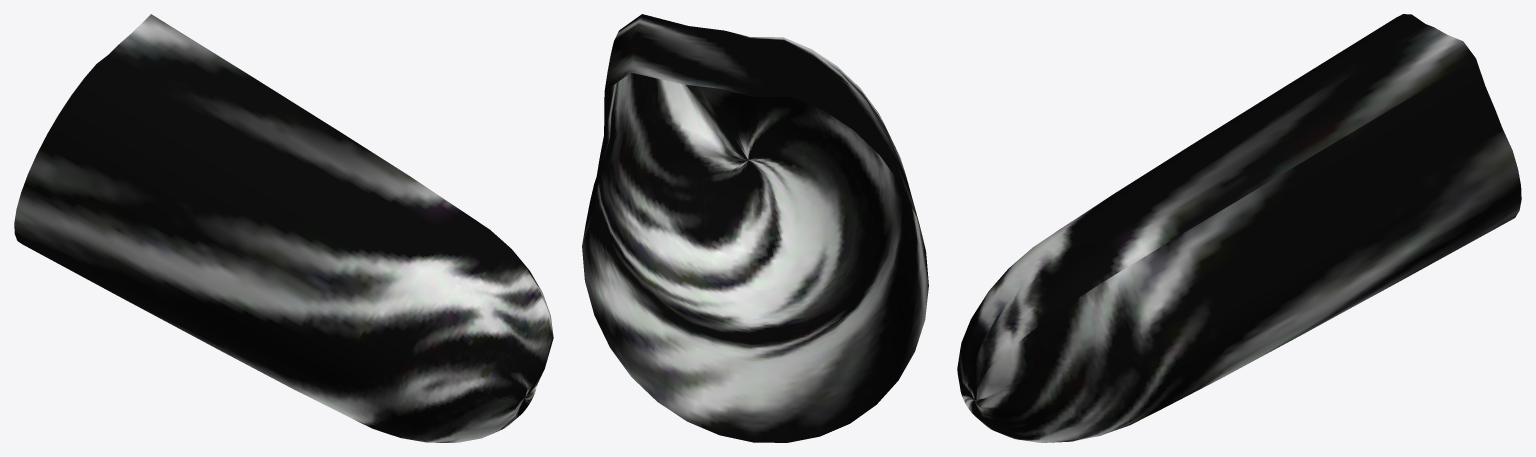
Rendered from effect_bzll_juexing_qiang_dongzuo #652928.fbx.
3 renders of one model, left to right at view 1: azimuth 30°, elevation 25°; view 2: azimuth 150°, elevation 25°; view 3: azimuth 270°, elevation 25°, orthographic. The views are drawn at different scales.
Parts seen in each view (by area): view 1: effect_bzll_juexing_qiang; view 2: effect_bzll_juexing_qiang; view 3: effect_bzll_juexing_qiang.
Boxes of the visible parts, x1,y1,x2,y2 form: effect_bzll_juexing_qiang: [14, 14, 553, 442]; effect_bzll_juexing_qiang: [582, 14, 928, 442]; effect_bzll_juexing_qiang: [957, 14, 1521, 442].
Size of the model in its own units: 0.5673 by 0.4791 by 0.7239.
